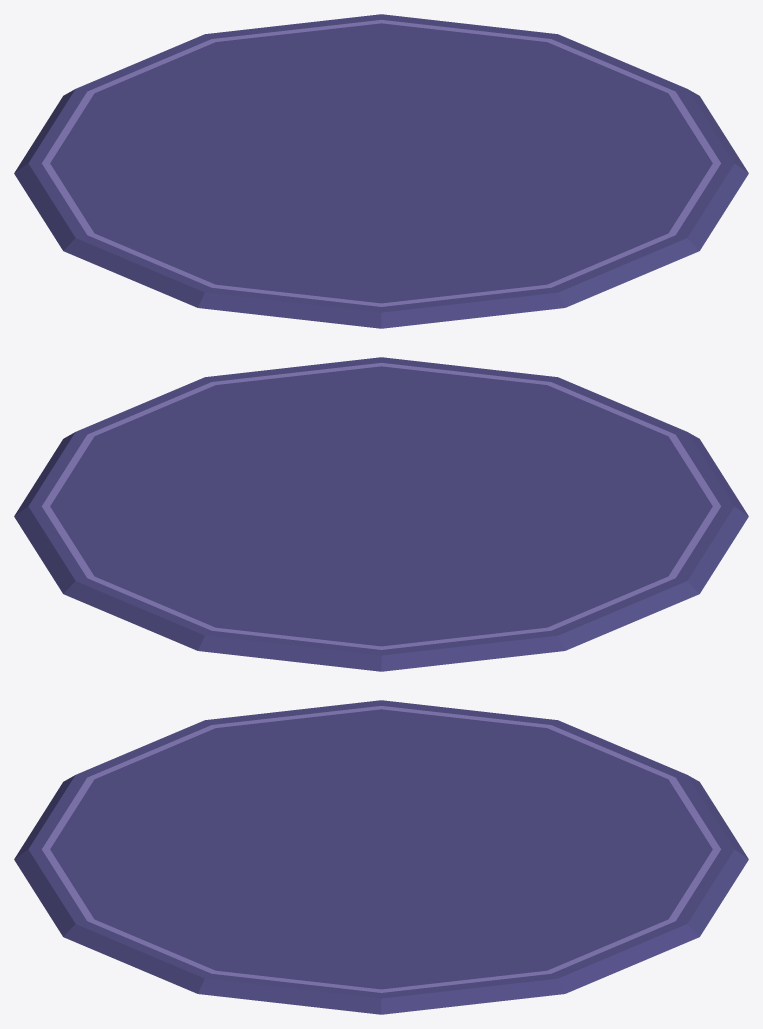
Rendered from circle_rug-transformed.glb.
3 views of the same model, one above another, from view 1: azimuth 30°, elevation 25°; view 2: azimuth 150°, elevation 25°; view 3: azimuth 270°, elevation 25° (orthographic).
Visible parts, largest first — view 1: rukh; view 2: rukh; view 3: rukh.
Boxes of the visible parts, <box> form: rukh: <box>14,14,748,328</box>; rukh: <box>14,357,748,671</box>; rukh: <box>14,700,748,1014</box>.
Size of the model in its own units: 1167 by 17.67 by 1167.
Materials: 1 (1 with a texture image).
